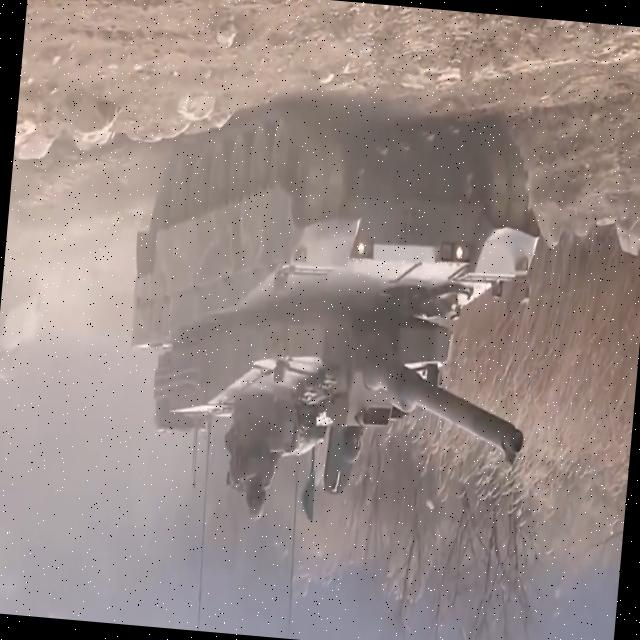korea tank: (111, 91, 557, 542)
